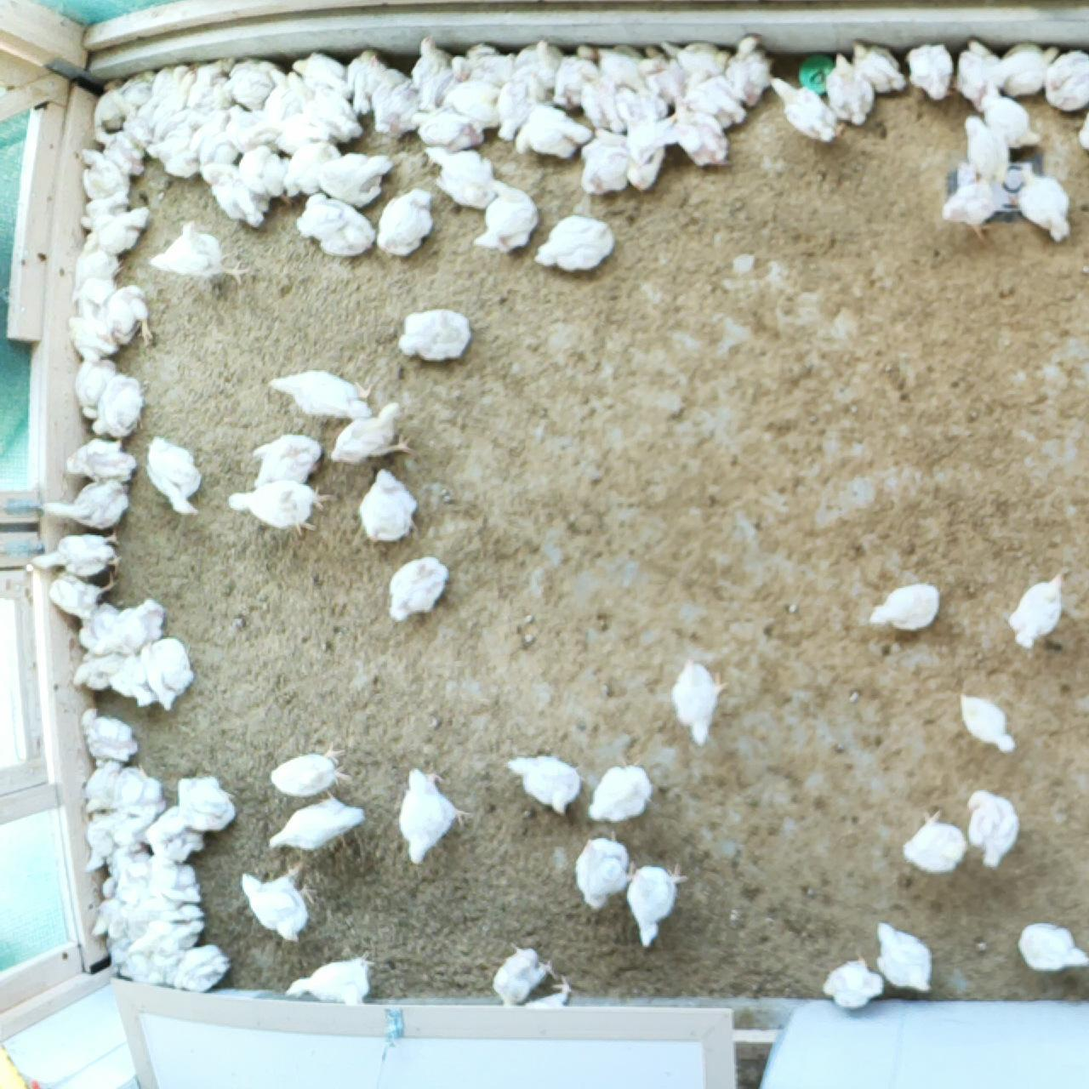chicken: (391, 758, 470, 871), (263, 788, 370, 860), (220, 472, 338, 535), (231, 860, 319, 944), (148, 218, 252, 289), (664, 649, 730, 751), (1011, 154, 1080, 250), (328, 400, 423, 469), (1002, 561, 1073, 653), (624, 856, 692, 952), (765, 73, 850, 148), (469, 174, 541, 262), (569, 826, 638, 914), (510, 96, 594, 168), (293, 189, 376, 261), (378, 549, 452, 629), (958, 781, 1023, 872), (503, 750, 584, 822), (32, 473, 135, 529), (871, 913, 938, 999), (530, 211, 620, 275), (586, 751, 656, 833), (263, 736, 357, 797), (264, 365, 372, 418), (24, 524, 125, 580), (352, 465, 420, 548), (142, 433, 207, 519), (936, 178, 1019, 244), (490, 936, 564, 1010), (898, 805, 973, 877), (716, 24, 777, 112), (283, 945, 376, 1001), (395, 302, 478, 364), (952, 688, 1022, 761), (423, 142, 497, 211), (1009, 915, 1089, 978), (138, 632, 196, 717), (172, 766, 241, 837), (671, 91, 731, 171), (373, 187, 436, 263), (314, 150, 395, 209), (817, 945, 888, 1012), (818, 48, 876, 129), (250, 428, 323, 492), (955, 108, 1013, 188), (88, 371, 150, 444), (860, 579, 947, 631), (623, 101, 668, 196), (949, 35, 1005, 111), (42, 567, 121, 620), (441, 67, 503, 133), (75, 703, 140, 765), (281, 139, 346, 200), (404, 34, 456, 110), (1003, 35, 1062, 101), (99, 592, 165, 651), (976, 91, 1044, 148), (96, 643, 157, 706), (205, 166, 268, 227), (368, 60, 419, 135), (192, 108, 243, 183), (578, 125, 630, 198), (683, 67, 745, 128), (300, 76, 362, 137), (63, 434, 140, 483), (140, 805, 206, 862), (902, 38, 958, 105), (101, 280, 155, 349), (496, 68, 545, 144), (577, 62, 627, 135), (238, 142, 295, 206), (1039, 45, 1089, 117), (847, 33, 907, 93), (408, 110, 486, 156), (122, 917, 206, 959), (632, 38, 687, 102), (171, 943, 235, 997), (68, 354, 120, 420), (129, 58, 187, 117), (595, 37, 662, 88), (658, 31, 730, 78), (551, 42, 598, 114), (118, 895, 207, 933), (78, 148, 130, 212), (92, 848, 156, 899), (185, 108, 235, 173), (145, 125, 202, 180), (289, 48, 351, 98), (344, 46, 386, 119), (74, 210, 142, 255), (153, 70, 201, 132), (614, 73, 666, 130), (109, 763, 169, 812), (226, 56, 280, 108), (223, 99, 277, 151), (78, 754, 121, 818), (63, 310, 119, 359), (450, 39, 512, 83), (146, 850, 199, 900), (117, 948, 183, 988), (70, 241, 111, 305), (272, 103, 325, 152), (512, 36, 562, 87), (82, 809, 120, 876), (104, 808, 163, 850), (96, 124, 146, 172), (87, 895, 135, 944), (73, 600, 118, 651), (69, 648, 123, 689), (74, 272, 119, 316), (265, 64, 305, 113), (92, 90, 137, 128), (186, 60, 213, 115), (124, 66, 157, 104), (125, 100, 156, 139)
